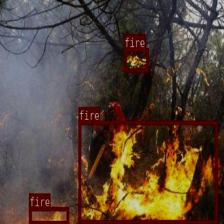fire: (78, 120, 217, 223), (28, 207, 68, 224), (124, 48, 148, 72)
